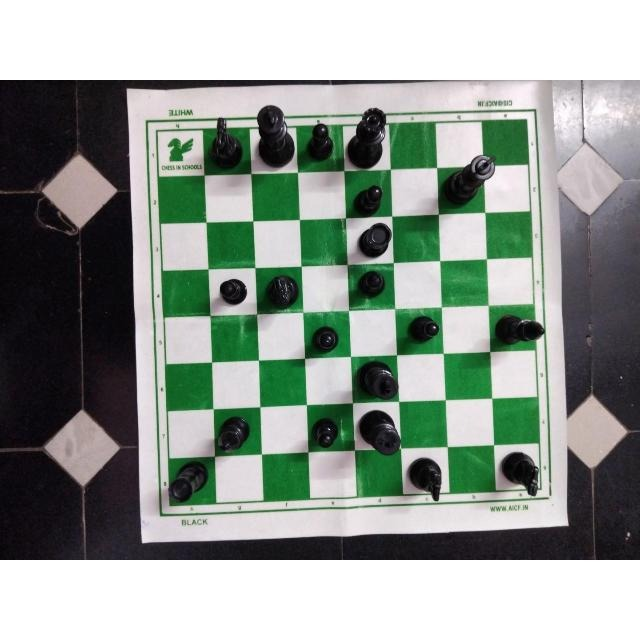black-bishop: (490, 306, 550, 348), (211, 409, 259, 457)
black-king: (441, 150, 503, 210), (252, 100, 296, 170), (355, 407, 403, 458), (354, 358, 401, 402)
black-knight: (202, 113, 246, 170), (499, 448, 541, 498), (405, 454, 445, 506), (260, 269, 300, 310)
black-pawn: (404, 311, 444, 349), (304, 121, 338, 163), (353, 180, 389, 218), (309, 414, 345, 451), (352, 267, 392, 300), (305, 322, 343, 356), (214, 273, 250, 308)
black-queen: (344, 102, 391, 172)
black-rook: (169, 457, 210, 505), (355, 221, 397, 260)
